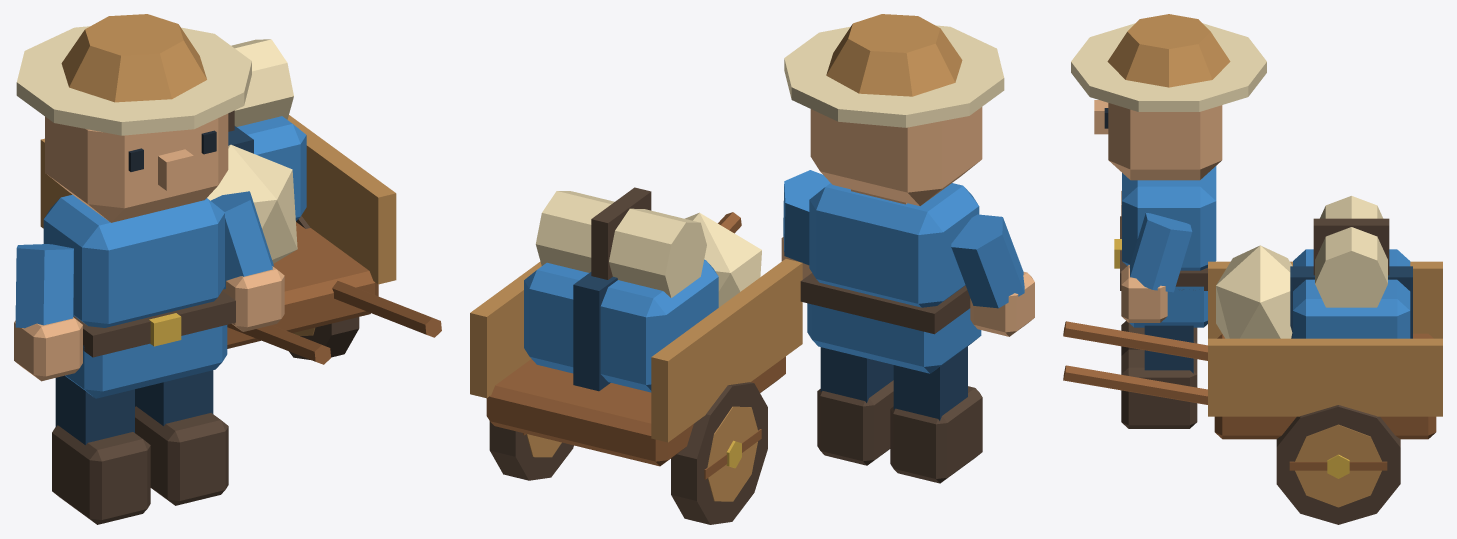
File: u_settler.glb
3 views of the same model, side by side, from view 1: azimuth 30°, elevation 25°; view 2: azimuth 150°, elevation 25°; view 3: azimuth 270°, elevation 25° (orthographic). The views are drawn at different scales.
Visible parts, largest first — view 1: u_settler; view 2: u_settler; view 3: u_settler.
Part boxes in pixels (x1,y1,x2,y2): u_settler: (14, 14, 441, 524); u_settler: (470, 14, 1034, 524); u_settler: (1063, 14, 1442, 524).
Bounding box in the file's own units: 0.3057 × 0.3196 × 0.2912.
